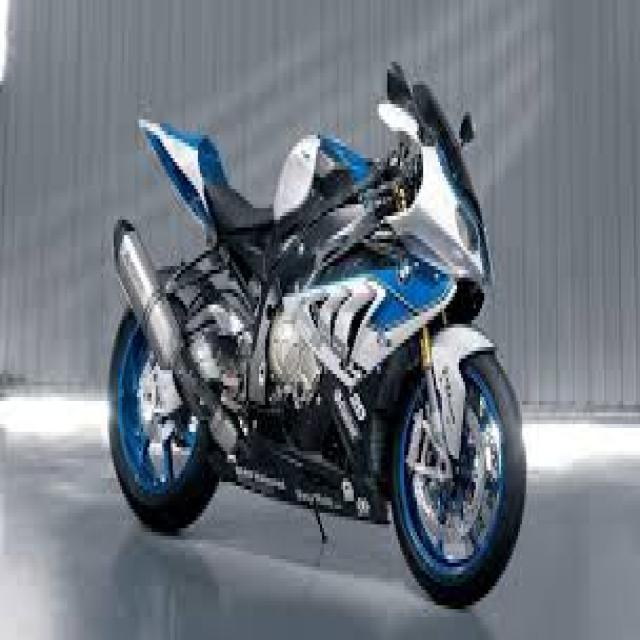MOTORCYCLE: (98, 47, 520, 613)
